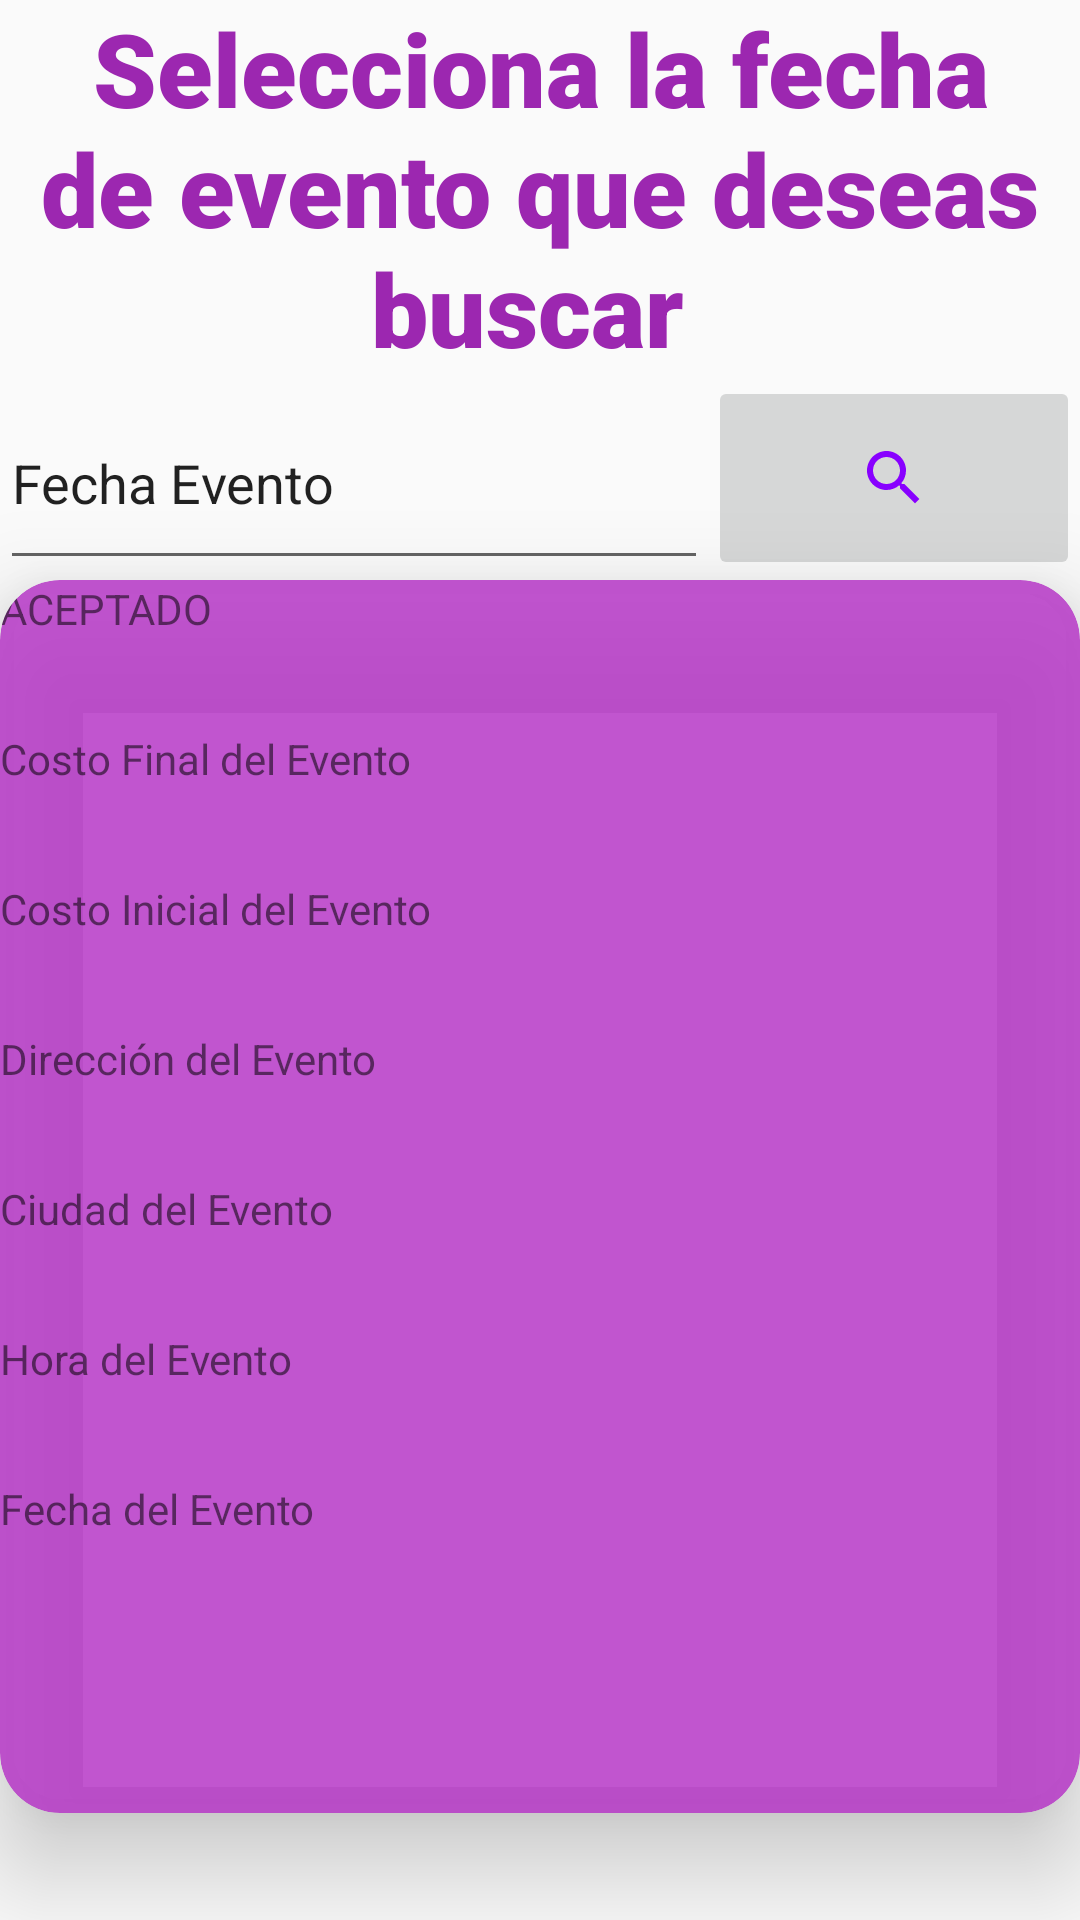

Named icons in this screenshot (1080 × 1920) and their centers, [x,y]:
lupa: [894,478]
